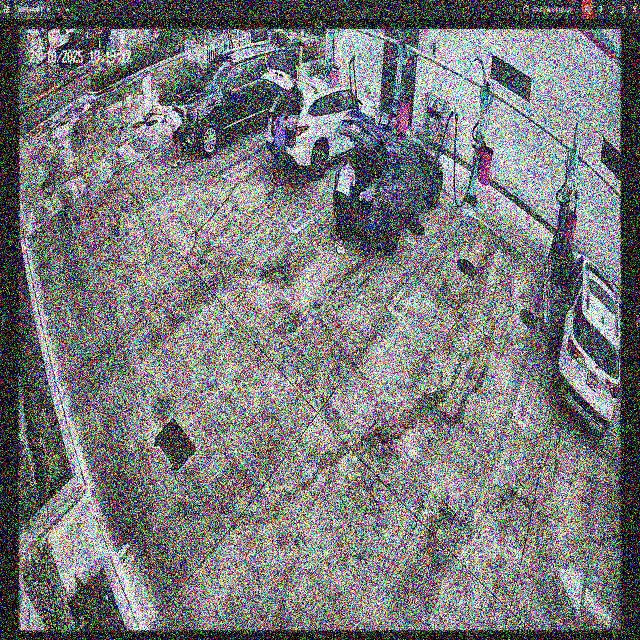Car: (335, 107, 443, 256), (262, 65, 378, 179)
